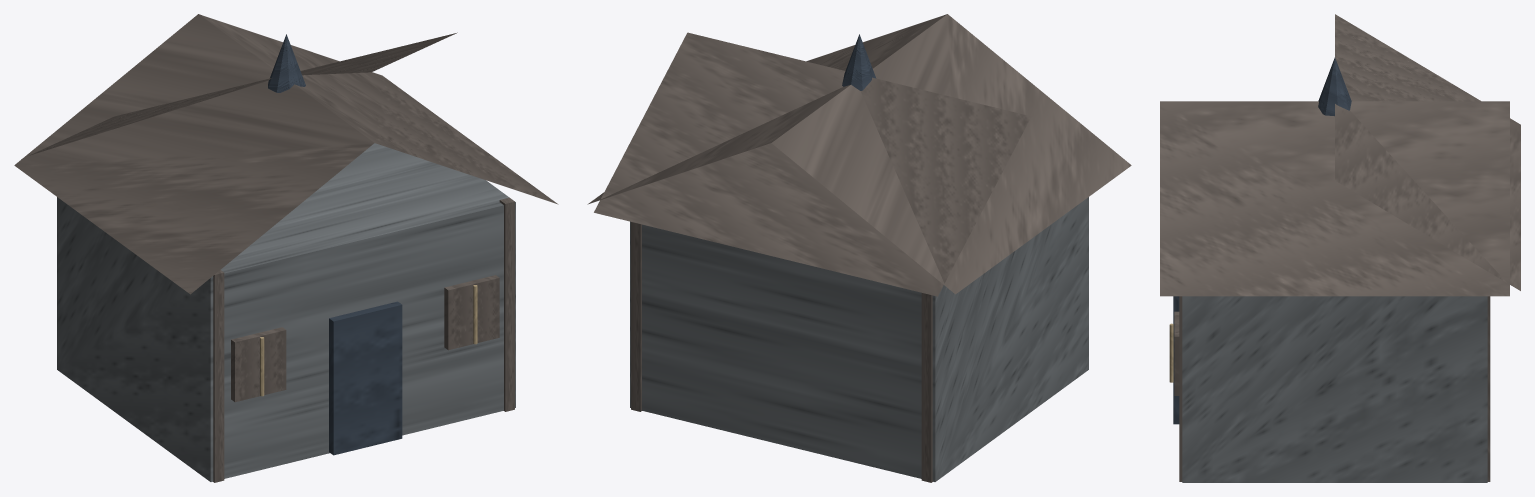
File: village_house.glb
The picture shows the model from 3 angles, left to right: view 1: azimuth 30°, elevation 25°; view 2: azimuth 150°, elevation 25°; view 3: azimuth 270°, elevation 25°; orthographic projection.
Visible parts, largest first — view 1: stone, wood, blackiron, gold; view 2: wood, stone, blackiron; view 3: wood, stone, blackiron.
Part boxes in pixels (x1,y1,x2,y2): stone: (57, 143, 515, 481); wood: (14, 14, 558, 482); blackiron: (268, 34, 402, 455); gold: (260, 285, 477, 396); wood: (587, 14, 1131, 482); stone: (630, 197, 1088, 481); blackiron: (842, 34, 876, 90); wood: (1160, 14, 1520, 481); stone: (1182, 296, 1487, 482); blackiron: (1173, 57, 1351, 424).
Size of the model in its own units: 7.6 by 7 by 6.5.
4 materials, 4 textured.
